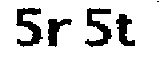5: (82, 3, 114, 51), (11, 5, 45, 49)
r: (46, 15, 76, 52)
t: (114, 11, 140, 54)
